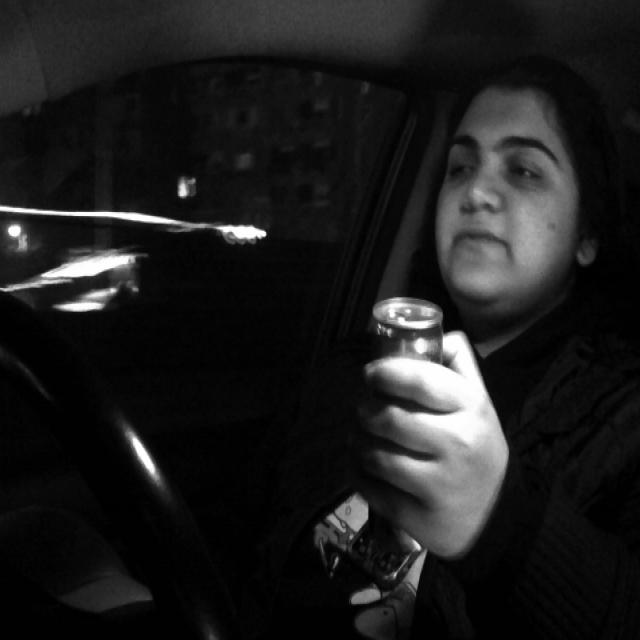drinking: (362, 288, 448, 574)
